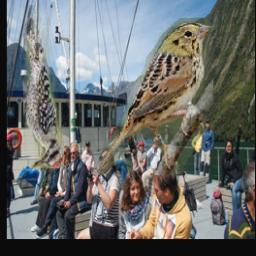Sparrow: (91, 18, 213, 175)
Woodpecker: (23, 5, 64, 168)
